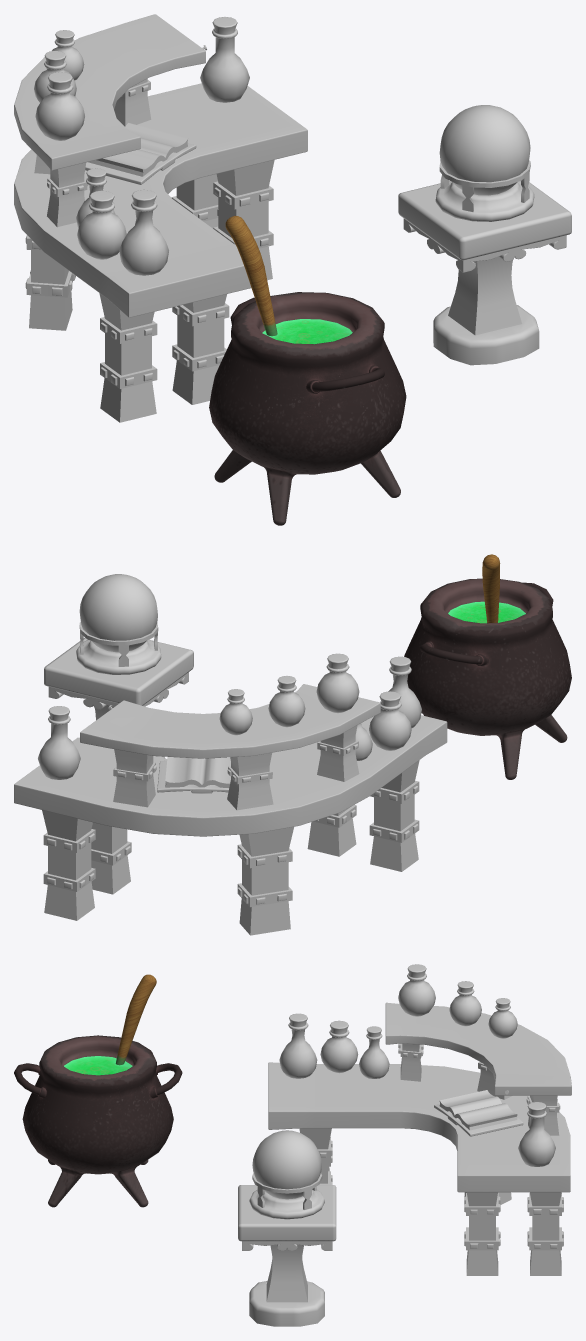
File: OrionThemedProps.fbx
3 renders of one model, top to bottom at view 1: azimuth 30°, elevation 25°; view 2: azimuth 150°, elevation 25°; view 3: azimuth 270°, elevation 25°, orthographic. The views are drawn at different scales.
Parts seen in each view (by area): view 1: AlchemyTable, Cauldron, CrystalBallTable, CrystalBall, CrystalBallStand, Book, TallPotion1, TallPotion3, Potion1, Potion4, Potion2, Potion3 (+1 smaller); view 2: AlchemyTable, Cauldron, CrystalBallTable, CrystalBall, CrystalBallStand, Book, TallPotion3, Potion1, Potion4, Potion2, TallPotion1, Potion3; view 3: AlchemyTable, Cauldron, CrystalBallTable, CrystalBall, Book, CrystalBallStand, TallPotion1, TallPotion3, Potion1, Potion4, TallPotion2, Potion2 (+1 smaller).
Boxes of the visible parts, left/top/right/bottom form: AlchemyTable: left=14, top=14, right=307, bottom=422; Cauldron: left=209, top=215, right=406, bottom=525; CrystalBallTable: left=398, top=182, right=571, bottom=365; CrystalBall: left=439, top=105, right=530, bottom=195; CrystalBallStand: left=435, top=160, right=534, bottom=221; Book: left=85, top=123, right=196, bottom=184; TallPotion1: left=119, top=189, right=168, bottom=275; TallPotion3: left=200, top=17, right=249, bottom=102; Potion1: left=35, top=72, right=84, bottom=140; Potion4: left=77, top=190, right=126, bottom=259; Potion2: left=34, top=50, right=76, bottom=102; Potion3: left=46, top=30, right=84, bottom=80; AlchemyTable: left=14, top=684, right=447, bottom=935; Cauldron: left=404, top=554, right=571, bottom=779; CrystalBallTable: left=44, top=637, right=193, bottom=758; CrystalBall: left=79, top=574, right=157, bottom=652; CrystalBallStand: left=76, top=621, right=161, bottom=674; Book: left=157, top=757, right=230, bottom=793; TallPotion3: left=38, top=706, right=80, bottom=779; Potion1: left=316, top=653, right=359, bottom=713; Potion4: left=369, top=691, right=411, bottom=750; Potion2: left=268, top=676, right=305, bottom=727; TallPotion1: left=380, top=656, right=421, bottom=727; Potion3: left=219, top=689, right=252, bottom=735; AlchemyTable: left=268, top=1002, right=571, bottom=1275; Cauldron: left=14, top=974, right=182, bottom=1207; CrystalBallTable: left=238, top=1185, right=336, bottom=1326; CrystalBall: left=252, top=1130, right=321, bottom=1199; Book: left=434, top=1090, right=523, bottom=1136; CrystalBallStand: left=249, top=1173, right=324, bottom=1219; TallPotion1: left=279, top=1013, right=317, bottom=1078; TallPotion3: left=518, top=1102, right=555, bottom=1166; Potion1: left=398, top=964, right=435, bottom=1016; Potion4: left=320, top=1020, right=358, bottom=1073; TallPotion2: left=359, top=1026, right=389, bottom=1078; Potion2: left=449, top=981, right=481, bottom=1026.
Size of the model in its own units: 10.3 by 6.34 by 14.76.
